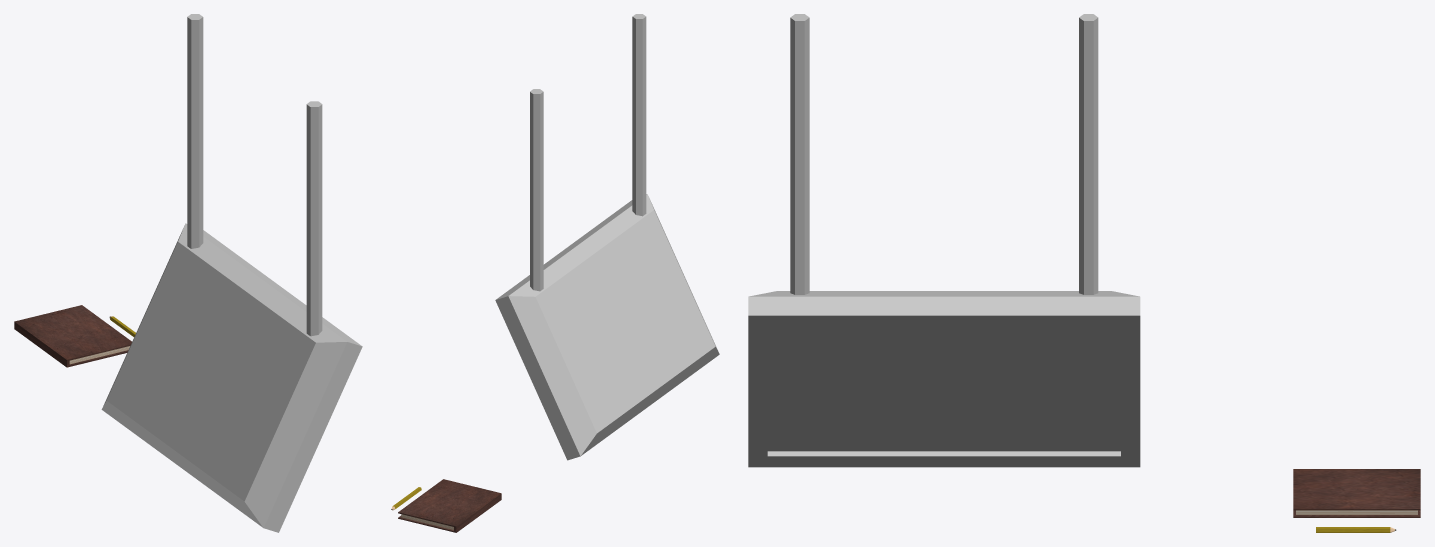
The model's file is interagiveis-gamejam-pt2.fbx.
3 views of the same model, side by side, from view 1: azimuth 30°, elevation 25°; view 2: azimuth 150°, elevation 25°; view 3: azimuth 270°, elevation 25° (orthographic). The views are drawn at different scales.
Parts seen in each view (by area): view 1: Cylinder.001, Cube; view 2: Cylinder.001, Cube; view 3: Cylinder.001, Cube.
Boxes of the visible parts, left/top/right/bottom form: Cylinder.001: left=101, top=14, right=362, bottom=532; Cube: left=14, top=305, right=131, bottom=367; Cylinder.001: left=495, top=14, right=719, bottom=460; Cube: left=398, top=479, right=501, bottom=532; Cylinder.001: left=748, top=14, right=1140, bottom=467; Cube: left=1293, top=469, right=1420, bottom=517.
Bounding box in the file's own units: 158 × 498 × 619.
